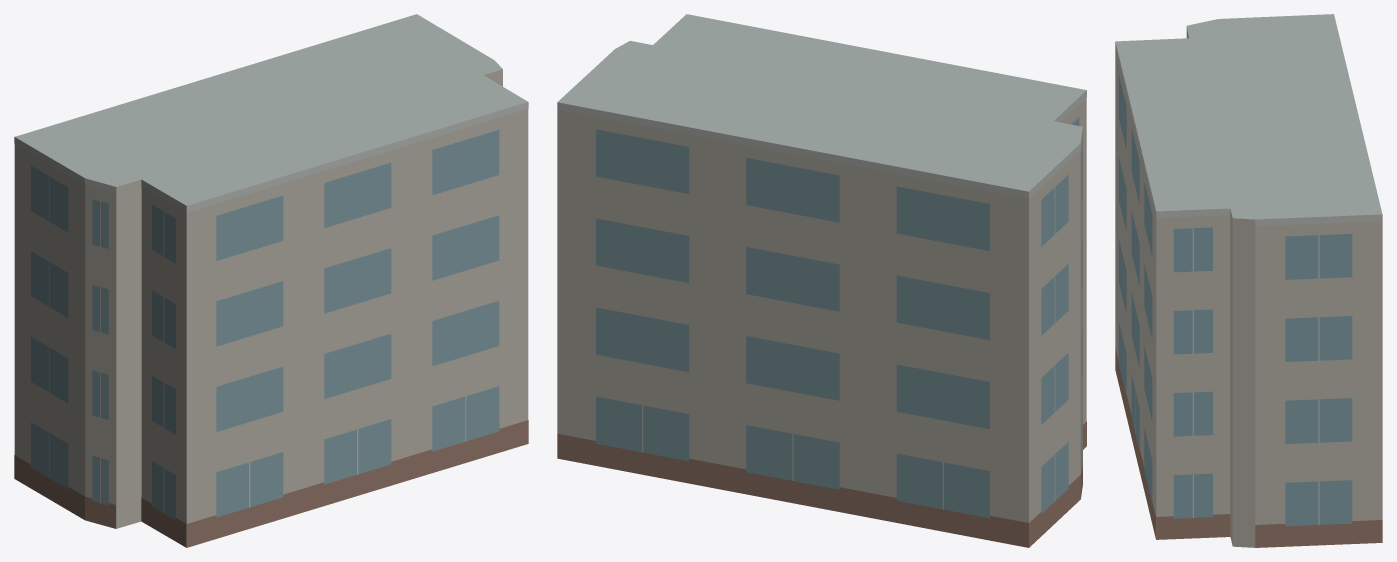
The model's file is survey-upis-32680421.glb.
The picture shows the model from 3 angles, left to right: view 1: azimuth 30°, elevation 25°; view 2: azimuth 150°, elevation 25°; view 3: azimuth 270°, elevation 25°; orthographic projection. The views are drawn at different scales.
Visible parts, largest first — view 1: survey-upis-32680421.tmp; view 2: survey-upis-32680421.tmp; view 3: survey-upis-32680421.tmp.
Boxes of the visible parts, x1,y1,x2,y2 form: survey-upis-32680421.tmp: [14, 14, 528, 547]; survey-upis-32680421.tmp: [557, 14, 1086, 547]; survey-upis-32680421.tmp: [1115, 14, 1382, 547].
Bounding box in the file's own units: 16.38 × 12.2 × 9.
